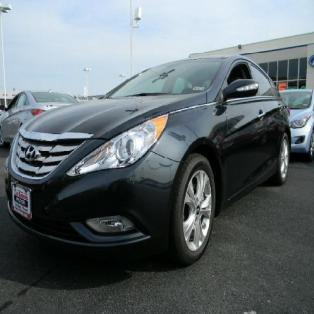Auto: (4, 57, 293, 268)
